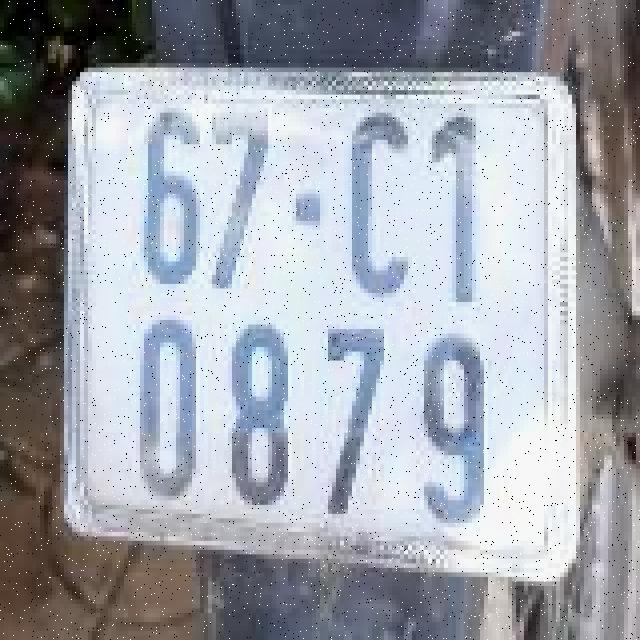0: (124, 311, 208, 505)
1: (424, 106, 492, 318)
6: (114, 92, 210, 300)
7: (314, 311, 394, 527), (202, 97, 274, 286)
8: (220, 309, 300, 507)
9: (412, 331, 496, 534)
C: (336, 108, 416, 298)
